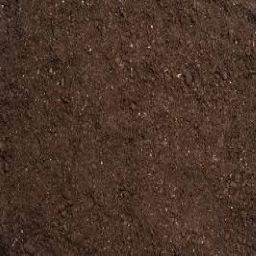dirt: (2, 2, 251, 251)
